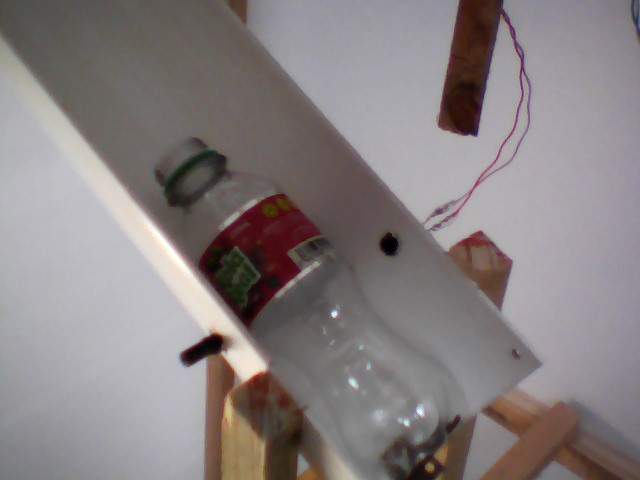plastico: (146, 131, 470, 480)
